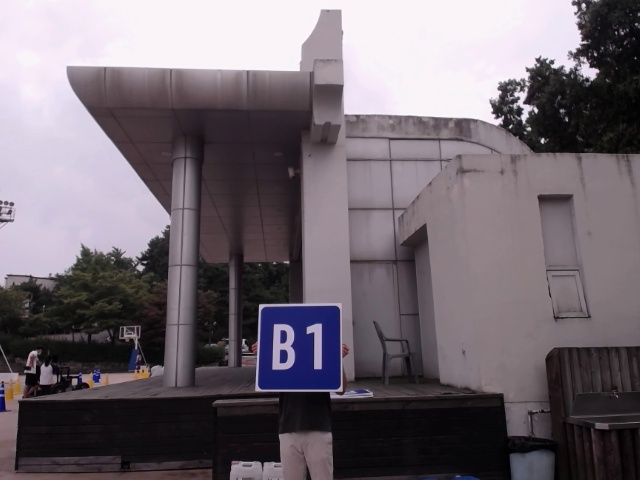delivery_b1: (256, 304, 342, 391)
